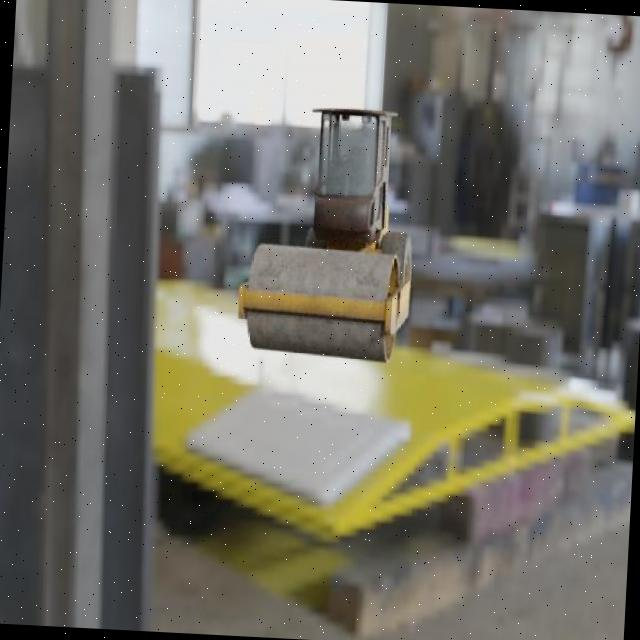Roller: (235, 101, 420, 365)
